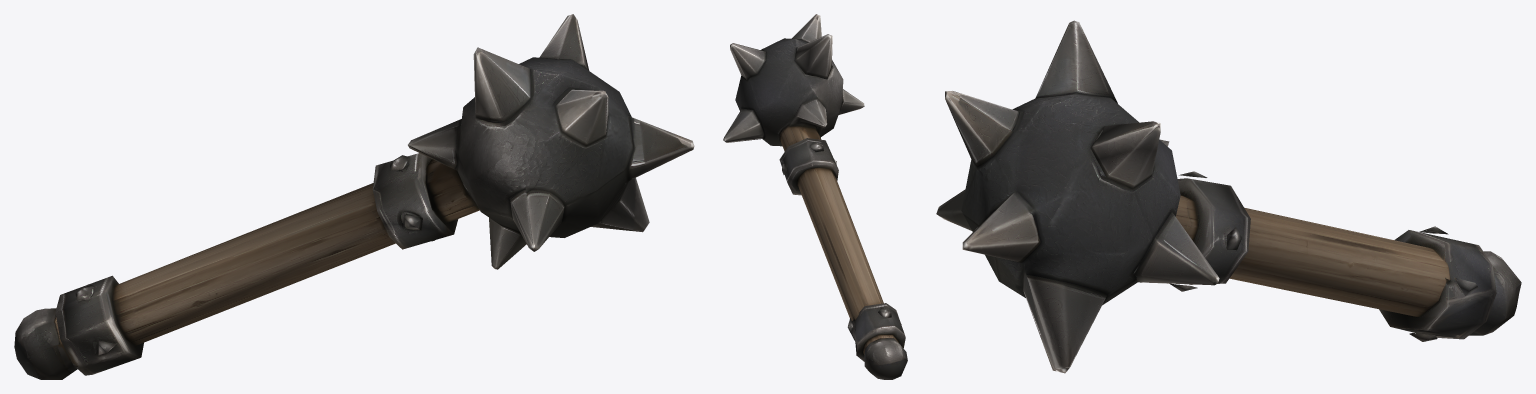
The model's file is Meshy_AI_tripo_convert_06a4734_0717144047_texture.fbx.
3 views of the same model, side by side, from view 1: azimuth 30°, elevation 25°; view 2: azimuth 150°, elevation 25°; view 3: azimuth 270°, elevation 25° (orthographic). The views are drawn at different scales.
Visible parts, largest first — view 1: Mesh_0; view 2: Mesh_0; view 3: Mesh_0.
Boxes of the visible parts, bbox=[...] form: Mesh_0: bbox=[14, 14, 694, 379]; Mesh_0: bbox=[723, 14, 907, 379]; Mesh_0: bbox=[936, 20, 1521, 373].
Size of the model in its own units: 200 by 160 by 183.
Materials: 1 (1 with a texture image).
